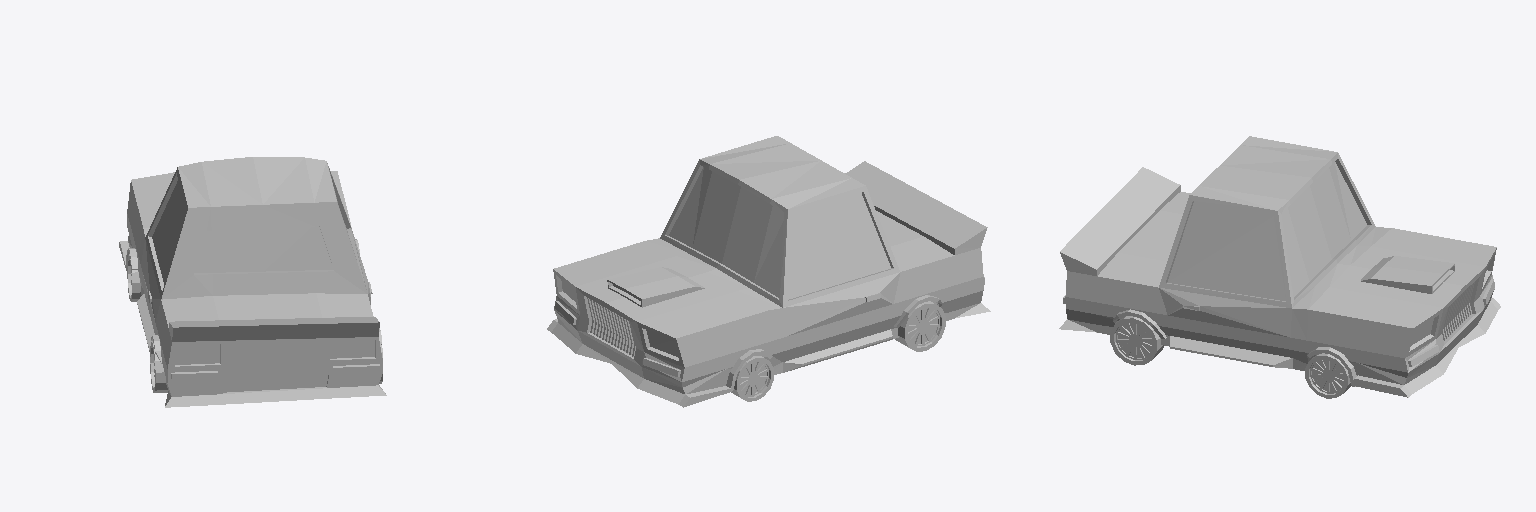
The model's file is car.obj.
The picture shows the model from 3 angles: view 1: azimuth 30°, elevation 25°; view 2: azimuth 150°, elevation 25°; view 3: azimuth 270°, elevation 25°; orthographic projection.
Visible parts, largest first — view 1: body, backlight, wheel.1_1; view 2: body, wheel.1_1, lattice.1_1, wheel1.1_1, headlight; view 3: body, wheel.1_1, wheel1.1_1, lattice.1_1.
Boxes of the visible parts, box(x1,y1,x2,y2) form: body: box(119, 157, 386, 407); backlight: box(175, 340, 374, 364); wheel.1_1: box(150, 341, 382, 392); body: box(547, 136, 990, 407); wheel.1_1: box(895, 301, 945, 351); lattice.1_1: box(587, 298, 635, 356); wheel1.1_1: box(731, 356, 773, 401); headlight: box(561, 279, 677, 356); body: box(1059, 136, 1500, 397); wheel.1_1: box(1110, 316, 1163, 365); wheel1.1_1: box(1305, 353, 1351, 398); lattice.1_1: box(1442, 282, 1474, 341).
Size of the model in its own units: 216 by 111 by 264.